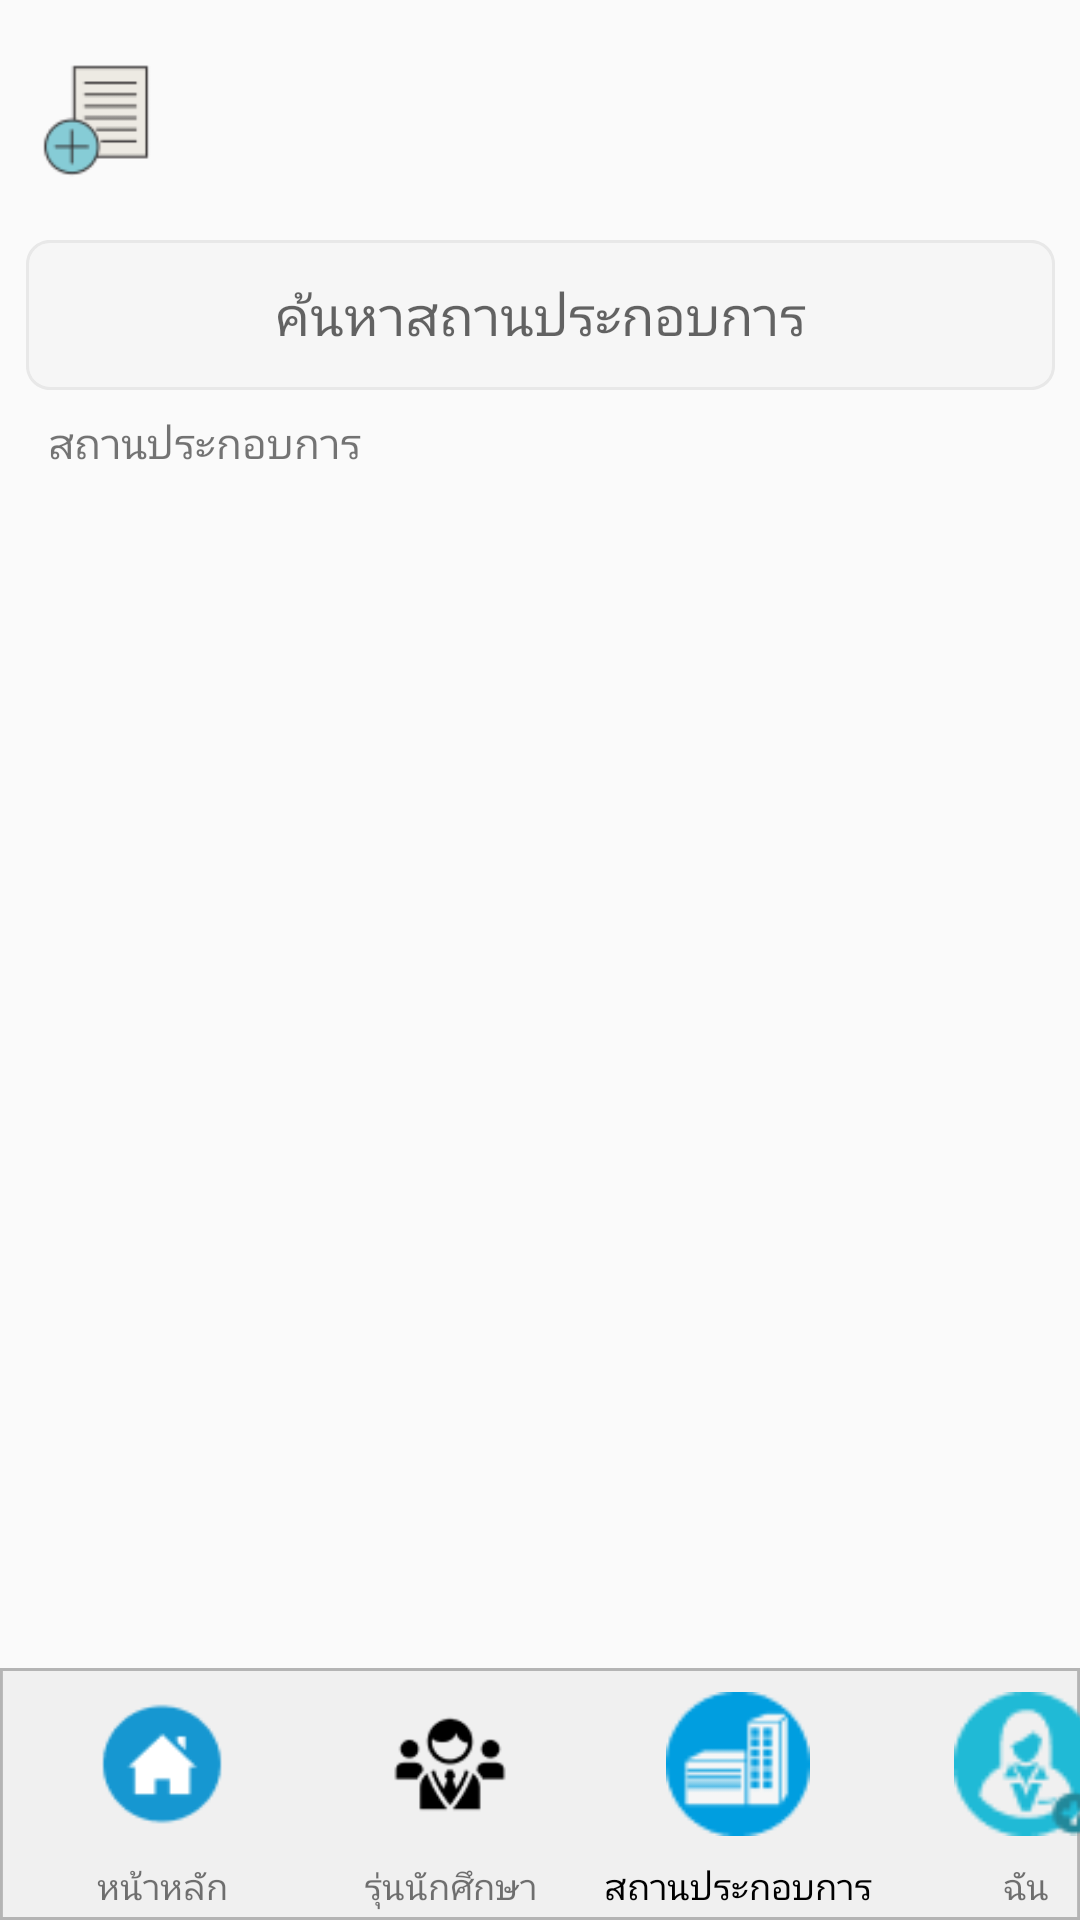

Icon click points for this 1080w x 1920h phone screenshot, format [x,y]:
main: [162,1764]
newdaily: [96,120]
